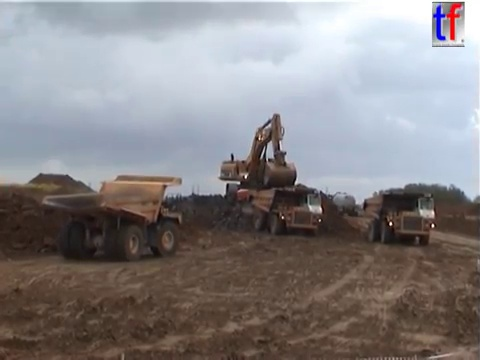excavator: (216, 111, 310, 206), (222, 186, 302, 214)
truck: (40, 172, 184, 262), (361, 191, 437, 246), (248, 185, 324, 235), (323, 190, 359, 217)
